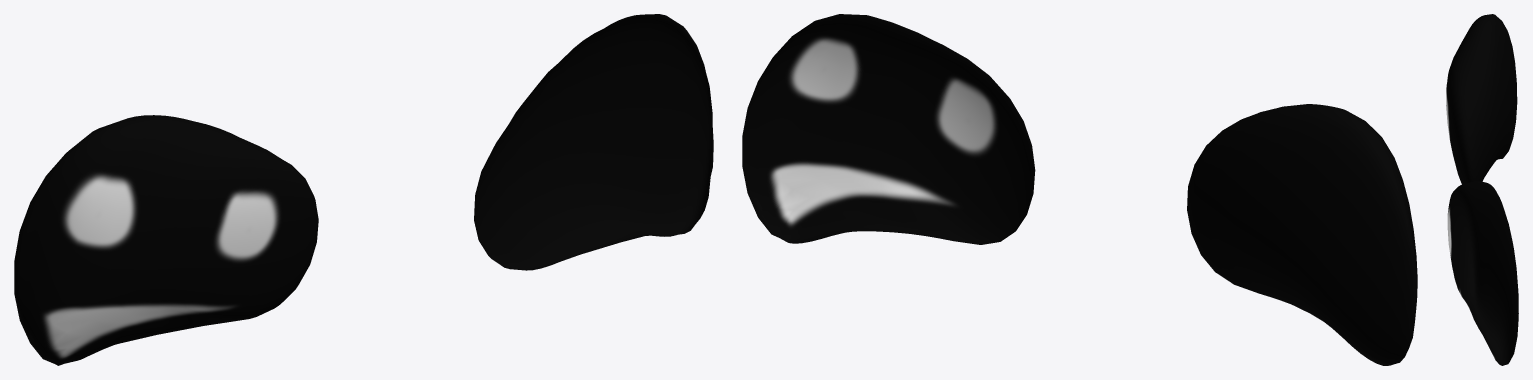
File: Determined.glb
3 renders of one model, left to right at view 1: azimuth 30°, elevation 25°; view 2: azimuth 150°, elevation 25°; view 3: azimuth 270°, elevation 25°, orthographic. The views are drawn at different scales.
Parts seen in each view (by area): view 1: Sphere.003; view 2: Sphere.003; view 3: Sphere.003.
Boxes of the visible parts, bbox=[...] form: Sphere.003: bbox=[14, 14, 713, 365]; Sphere.003: bbox=[742, 14, 1417, 365]; Sphere.003: bbox=[1446, 14, 1518, 365].
Bounding box in the file's own units: 0.3604 × 0.1292 × 0.0502.
Materials: 1 (1 with a texture image).
